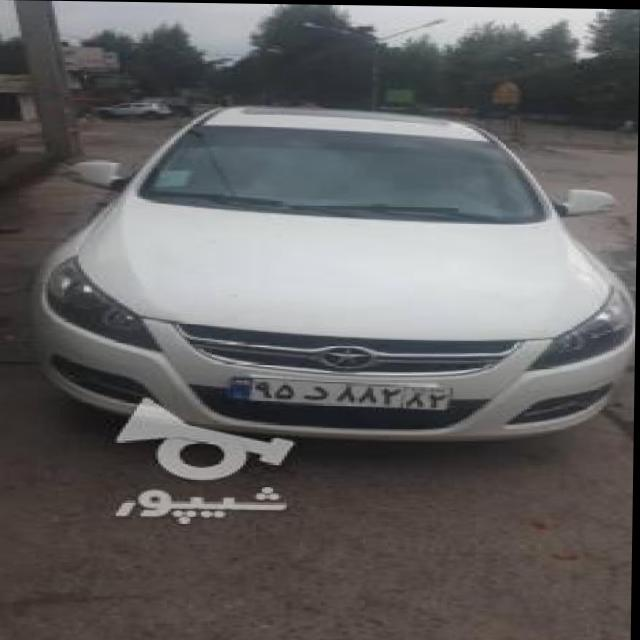licence: (232, 377, 454, 408)
